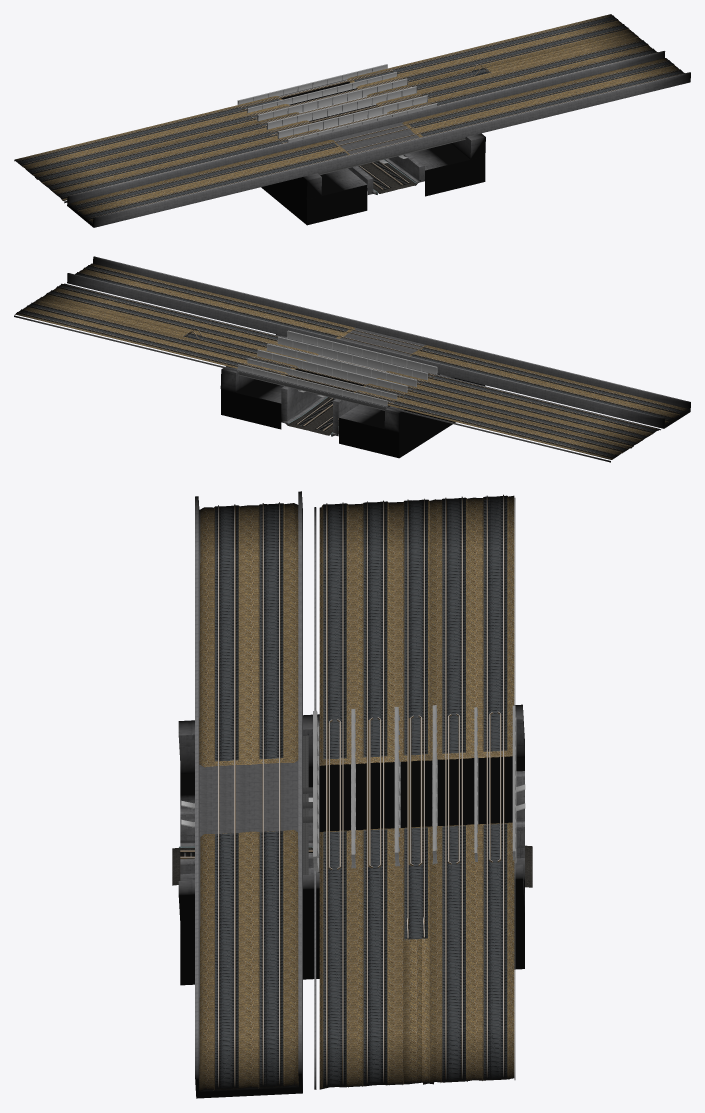
Rendered from KH_JR_UNDER00.glb.
3 views of the same model, one above another, from view 1: azimuth 30°, elevation 25°; view 2: azimuth 150°, elevation 25°; view 3: azimuth 270°, elevation 25° (orthographic). The views are drawn at different scales.
Parts seen in each view (by area): view 1: JR, Jari_All; view 2: JR, Jari_All; view 3: JR, Jari_All.
Boxes of the visible parts, x1,y1,x2,y2 form: JR: (14, 14, 690, 227); Jari_All: (261, 133, 485, 225); JR: (14, 256, 690, 462); Jari_All: (220, 334, 485, 458); JR: (195, 491, 516, 1098); Jari_All: (172, 704, 532, 985).
Size of the model in its own units: 400 by 38.54 by 105.
16 materials, 13 textured.
